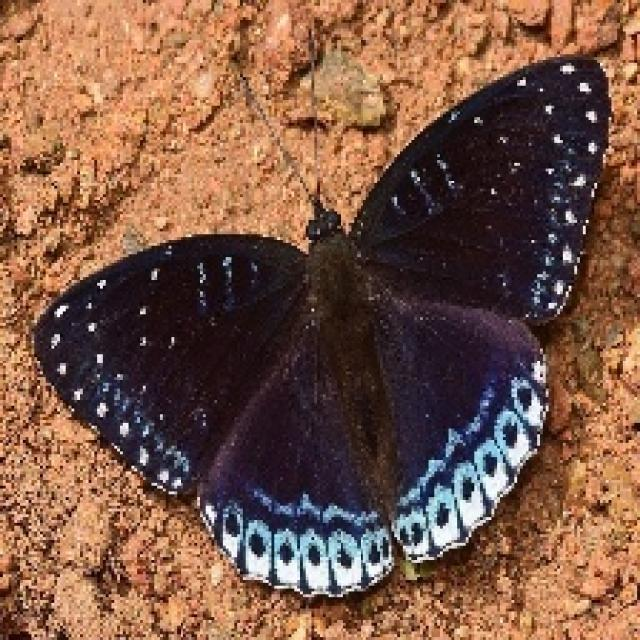butterfly: (29, 29, 614, 600)
